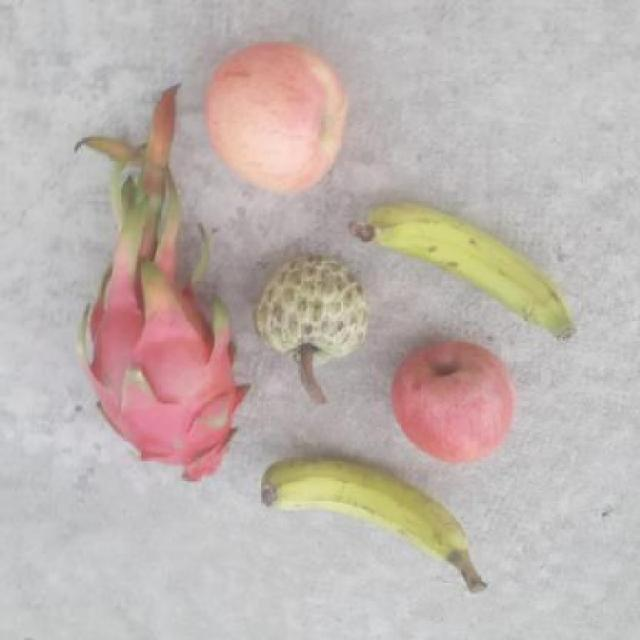apple: (202, 36, 352, 196), (390, 337, 518, 465)
banana: (260, 456, 488, 592), (362, 204, 580, 341)
dragon fruit: (79, 276, 243, 482)
sugar apple: (250, 250, 372, 376)
